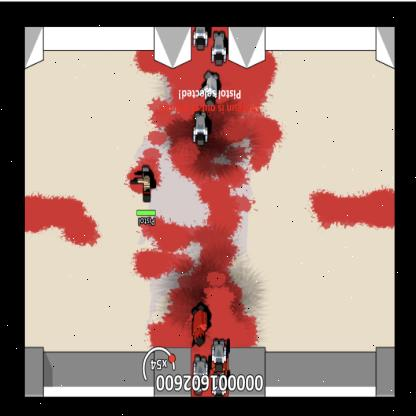agent: (140, 170, 154, 204)
boss: (191, 304, 209, 348)
jombie: (192, 112, 209, 148), (202, 71, 219, 107), (211, 32, 227, 68), (212, 338, 227, 371), (192, 354, 209, 376), (193, 28, 208, 52)
